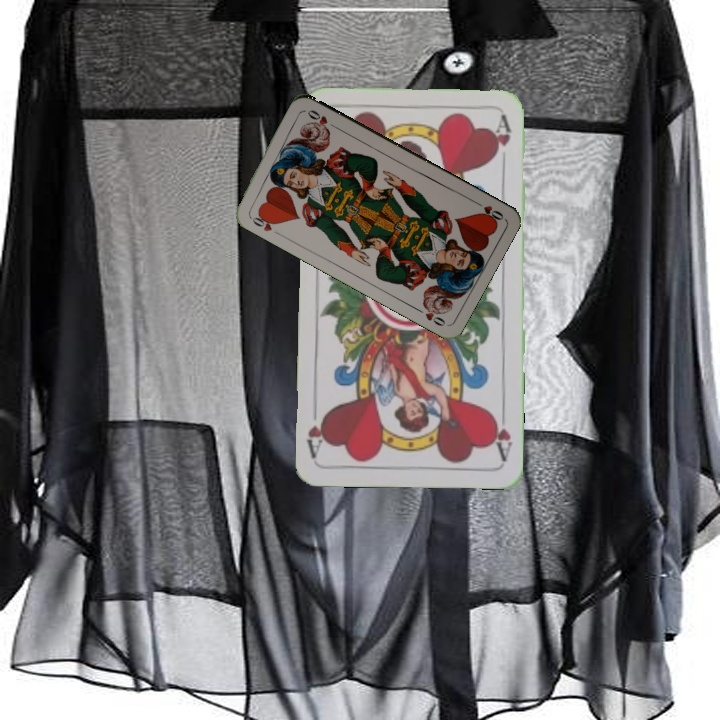HA: (488, 404, 515, 463)
HO: (245, 209, 282, 237), (469, 196, 506, 224)
